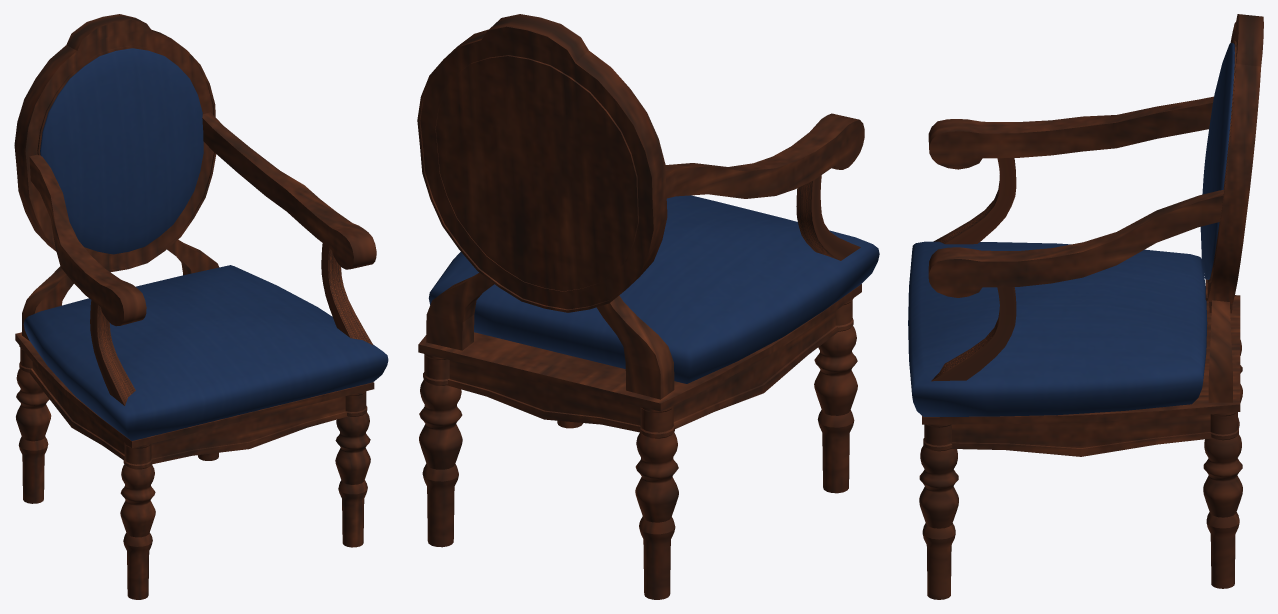
The model's file is EN_WoodenChair_02 (1).fbx.
3 views of the same model, side by side, from view 1: azimuth 30°, elevation 25°; view 2: azimuth 150°, elevation 25°; view 3: azimuth 270°, elevation 25° (orthographic). The views are drawn at different scales.
Visible parts, largest first — view 1: Chair; view 2: Chair; view 3: Chair.
Part boxes in pixels (box(x1,y1,x2,y2)): Chair: box(14, 14, 388, 599); Chair: box(417, 14, 879, 599); Chair: box(908, 14, 1263, 599).
Bounding box in the file's own units: 0.9815 × 1.61 × 1.01.
